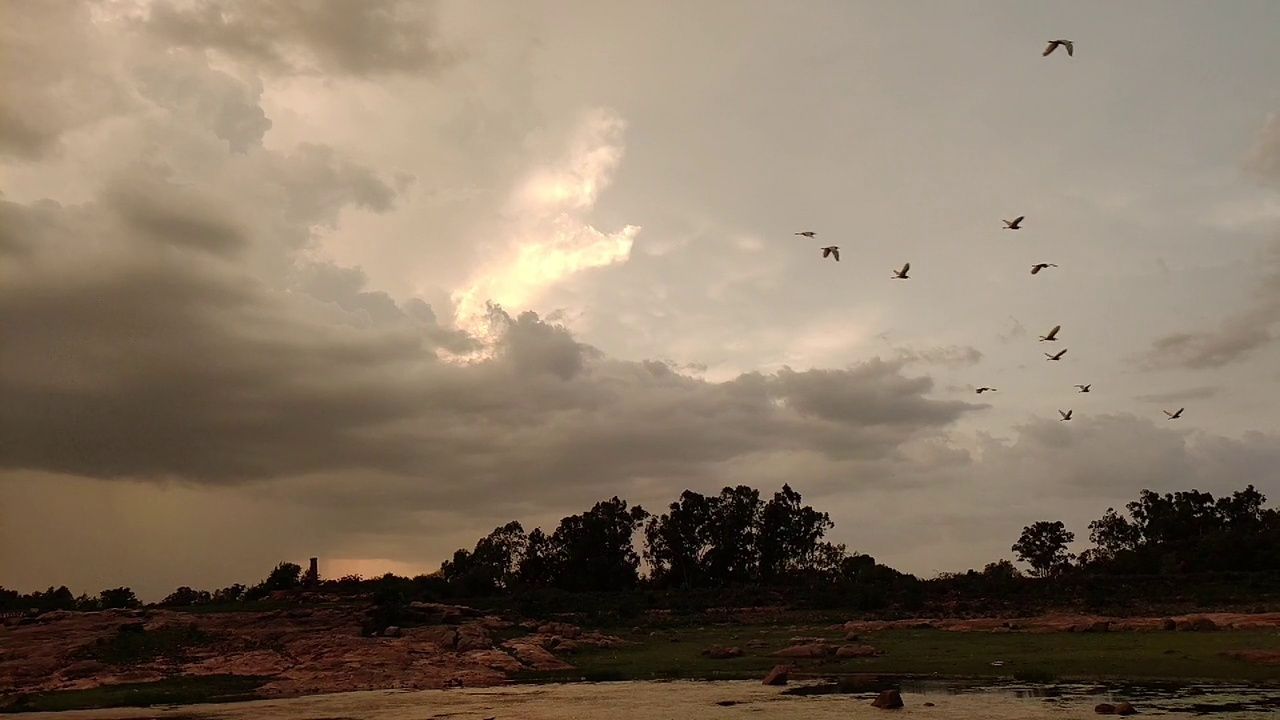bird: (1043, 39, 1074, 59), (1029, 259, 1056, 275), (1038, 324, 1061, 341), (1000, 214, 1024, 230), (890, 261, 910, 280), (1043, 348, 1066, 362), (820, 245, 840, 261), (1164, 406, 1184, 421), (794, 228, 817, 239), (1057, 408, 1073, 421), (1072, 383, 1091, 393), (975, 386, 996, 394)
